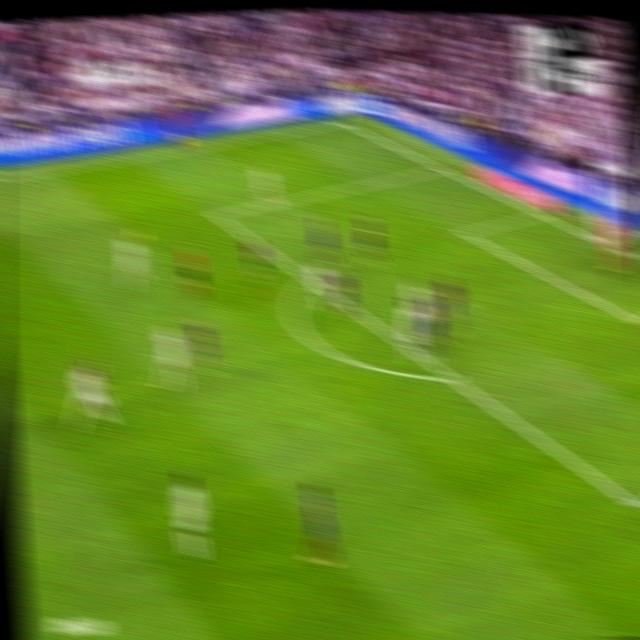bigarea_bottom_inner: (622, 486, 640, 521)
bigarea_top_inner: (207, 203, 227, 225)
bigarea_top_outter: (431, 159, 449, 175)
bottom_arc_area_intersection: (440, 364, 462, 389)
corner: (333, 114, 353, 128)
smallarea_top_inner: (457, 223, 474, 240)
top_arc_area_intersection: (301, 271, 318, 287)
